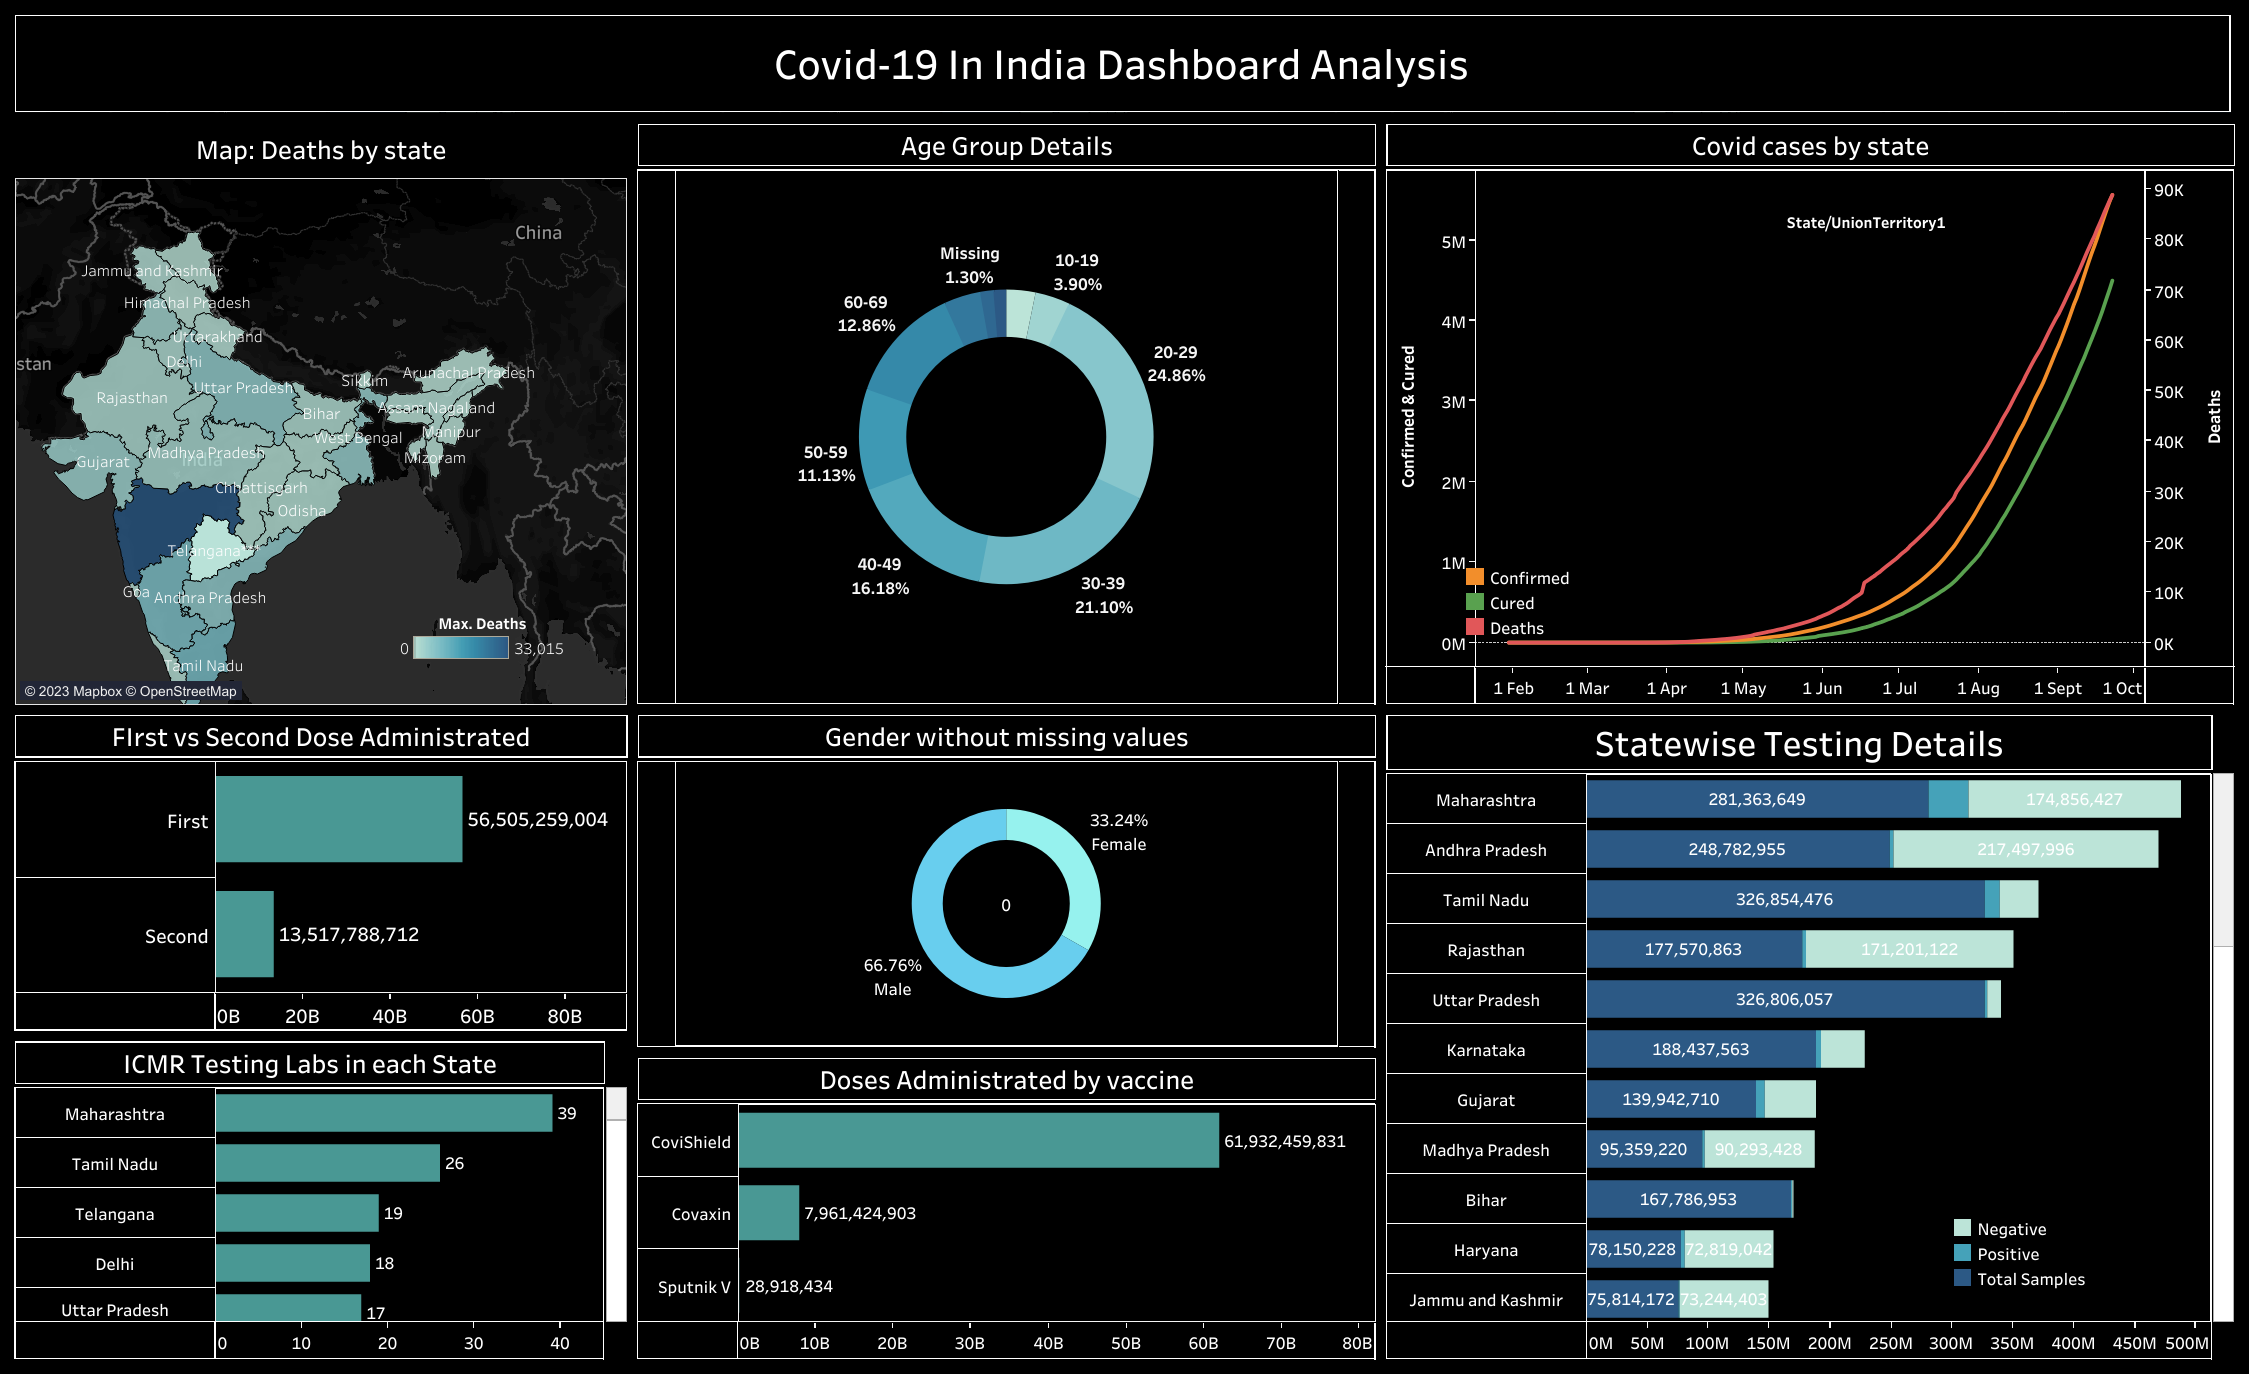

What the dashboard file says about the page in this screenshot:
{"tool":"tableau","page":{"name":"Dashboard 1","canvas":[1800,1100],"ordinal":0},"visuals":[{"type":"worksheet","title":"Tittle","mark":"Automatic","box":[8,8,1784,87]},{"type":"worksheet","title":"Map: Deaths by state","mark":"Automatic","box":[8,95,497.6,473]},{"type":"worksheet","title":"Age Group Details ","mark":"Pie","rows":["Calculation_754071509132001283","Calculation_754071509132148741"],"box":[505.6,95,599.4,473]},{"type":"worksheet","title":"Covid cases by state","mark":"Automatic","rows":["Deaths"],"cols":["Date"],"box":[1105,95,687,473]},{"type":"filter","title":"Covid cases by state","param":"[federated.1pdqfdz16oy2sg176f4500sbpc6i].[none:State/UnionTerritory:nk]","box":[1409,167,168,64]},{"type":"legend","title":"Covid cases by state","param":"[federated.1pdqfdz16oy2sg176f4500sbpc6i].[:Measure Names]","box":[1170,451,140,72]},{"type":"legend","title":"Map: Deaths by state","param":"[federated.1pdqfdz16oy2sg176f4500sbpc6i].[max:Deaths:qk]","box":[316,485,140,88]},{"type":"worksheet","title":"FIrst vs Second Dose Administrated","mark":"Automatic","box":[8,568,497.6,261]},{"type":"worksheet","title":"Gender without missing values","mark":"Pie","rows":["Calculation_754071509164032007","Calculation_754071509164138507"],"box":[505.6,568,599.4,274]},{"type":"worksheet","title":"Statewise Testing Details ","mark":"Automatic","rows":["State"],"box":[1105,568,687,524]},{"type":"worksheet","title":"ICMR Testing Labs in each State ","mark":"Automatic","rows":["state"],"cols":["lab"],"box":[8,829,497.6,263]},{"type":"worksheet","title":"Doses Administrated by vaccine ","mark":"Automatic","box":[505.6,842,599.4,250]},{"type":"legend","title":"Statewise Testing Details ","param":"[federated.1bgr69413b3d1i1ci41xn11gkxf6].[:Measure Names]","box":[1560,972,143,72]}]}

Visuals, with their boxes in screenshot pixels (x1, y1, x2, y2), scaled from the page's 1800x1100 canvas onto the 2249x1374 screenshot:
"Tittle" worksheet: region(10, 10, 2239, 119)
"Map: Deaths by state" worksheet: region(10, 119, 632, 709)
"Age Group Details " worksheet (Pie marks): region(632, 119, 1381, 709)
"Covid cases by state" worksheet: region(1381, 119, 2239, 709)
"Covid cases by state" filter: region(1760, 209, 1970, 289)
"Covid cases by state" legend: region(1462, 563, 1637, 653)
"Map: Deaths by state" legend: region(395, 606, 570, 716)
"FIrst vs Second Dose Administrated" worksheet: region(10, 709, 632, 1035)
"Gender without missing values" worksheet (Pie marks): region(632, 709, 1381, 1052)
"Statewise Testing Details " worksheet: region(1381, 709, 2239, 1364)
"ICMR Testing Labs in each State " worksheet: region(10, 1035, 632, 1364)
"Doses Administrated by vaccine " worksheet: region(632, 1052, 1381, 1364)
"Statewise Testing Details " legend: region(1949, 1214, 2128, 1304)
